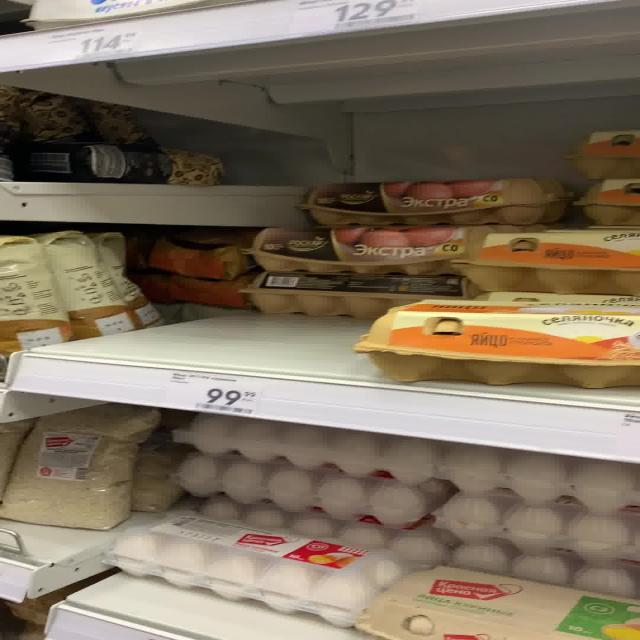egg box: (122, 516, 396, 628), (346, 299, 638, 387), (358, 564, 636, 639), (1, 404, 149, 527), (450, 223, 632, 294), (233, 269, 470, 319), (296, 182, 557, 226), (240, 222, 475, 268)
